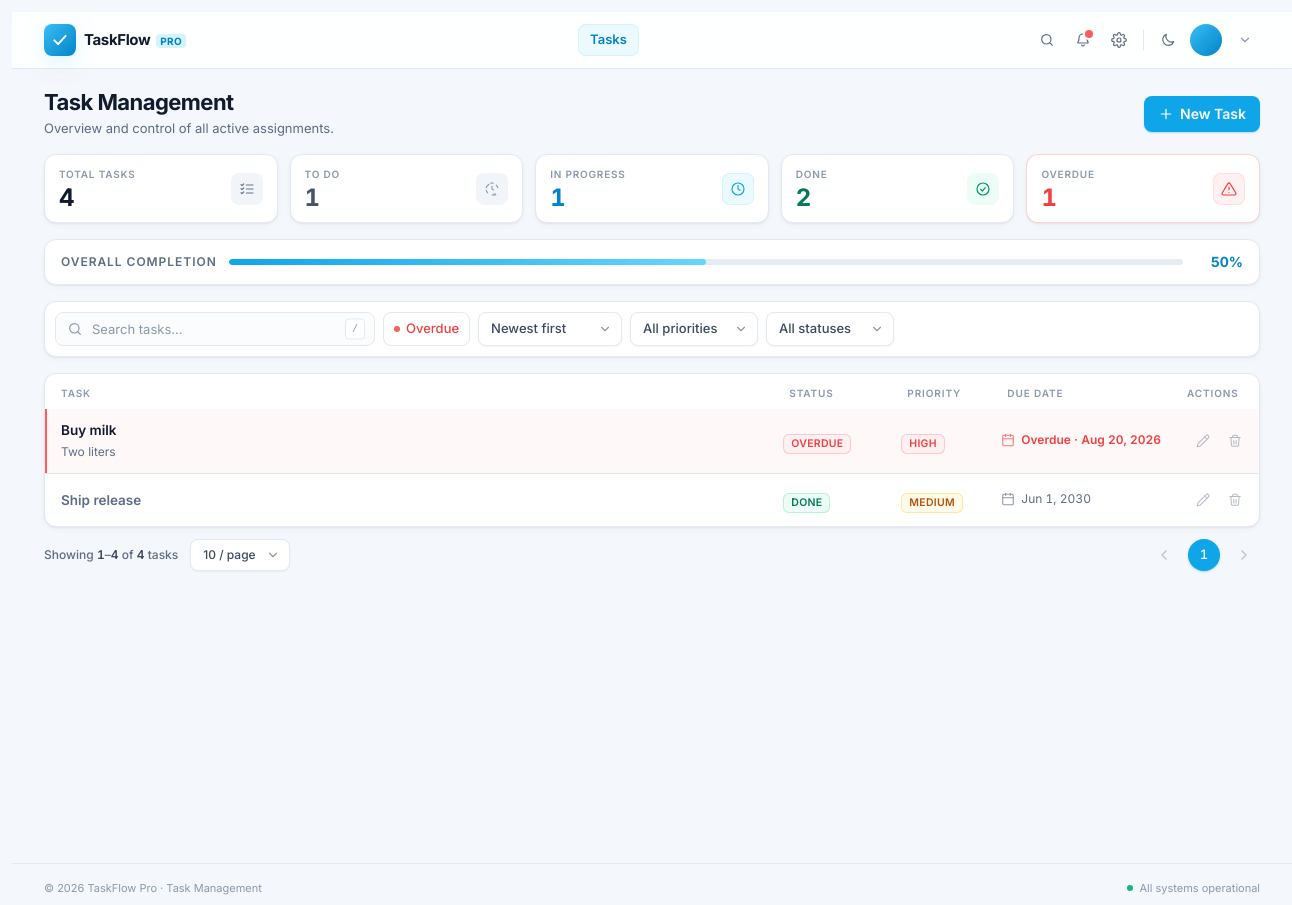
Scenario: DashboardPage - query interactions › sends backend sort parameters when the sort option changes
The image size is (1292, 905).
Expected: the heading "Buy milk" is shown, [61,422,116,438]
Select "Priority (high first)" in the dropdown named "Sort tasks" at (550,329), box [478,312,622,346]
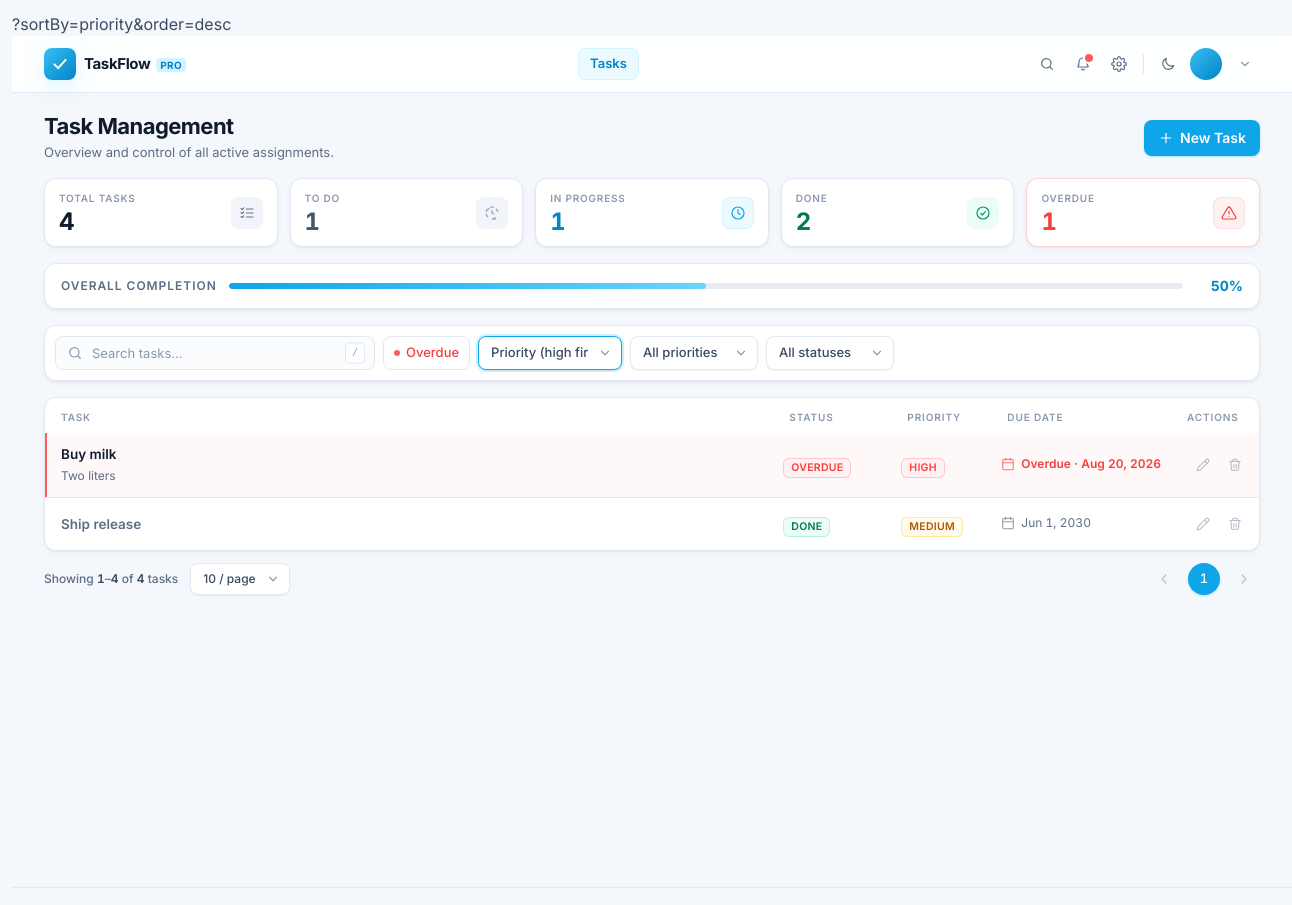
Expected: the text with test id "url-probe" shows "sortBy=priority", [12,14,231,34]
